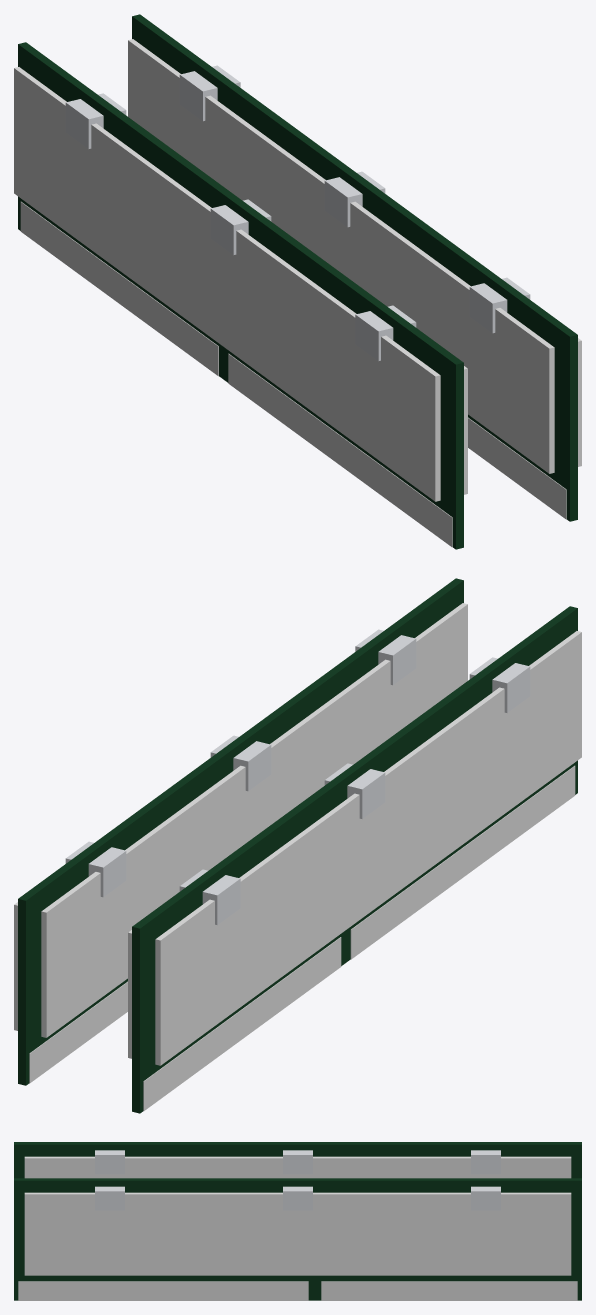
File: hw_ram_ddr2_8gb.glb
3 views of the same model, one above another, from view 1: azimuth 30°, elevation 25°; view 2: azimuth 150°, elevation 25°; view 3: azimuth 270°, elevation 25° (orthographic). The views are drawn at different scales.
Parts seen in each view (by area): view 1: Stick_1, Body; view 2: Stick_1, Body; view 3: Body, Stick_1.
Part boxes in pixels (bbox=[...]): Stick_1: bbox=[14, 42, 467, 549]; Body: bbox=[128, 14, 581, 521]; Stick_1: bbox=[128, 606, 581, 1113]; Body: bbox=[14, 578, 467, 1085]; Body: bbox=[14, 1178, 581, 1300]; Stick_1: bbox=[14, 1142, 581, 1178].
Bounding box in the file's own units: 0.0266 × 0.031 × 0.133.
